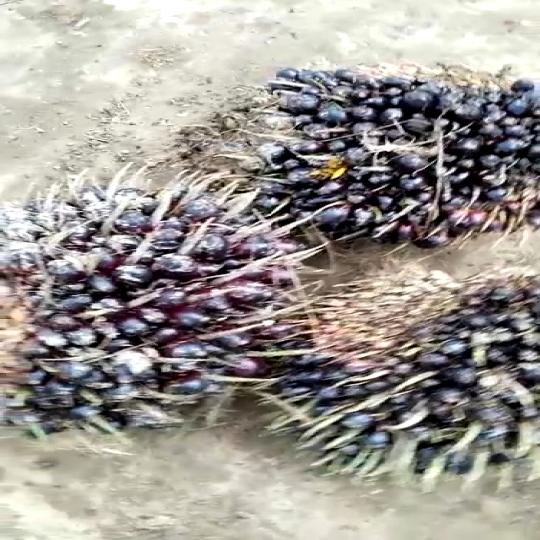mentah: (0, 171, 322, 449), (264, 251, 540, 501), (200, 60, 540, 250)
